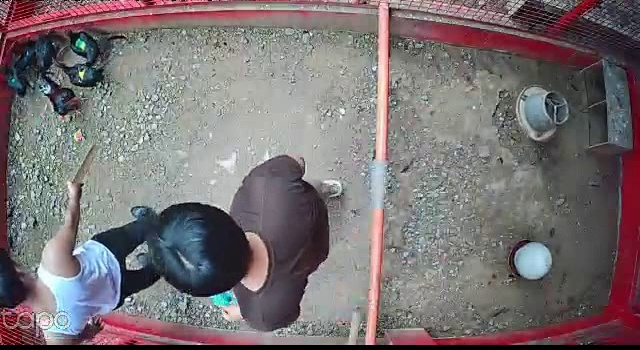Chicken: (64, 29, 106, 66), (10, 31, 43, 78), (35, 28, 64, 79), (56, 60, 106, 89), (0, 61, 29, 99)
Rooster: (34, 75, 94, 117)
Saddle_Color_Yellow: (78, 68, 86, 79)
